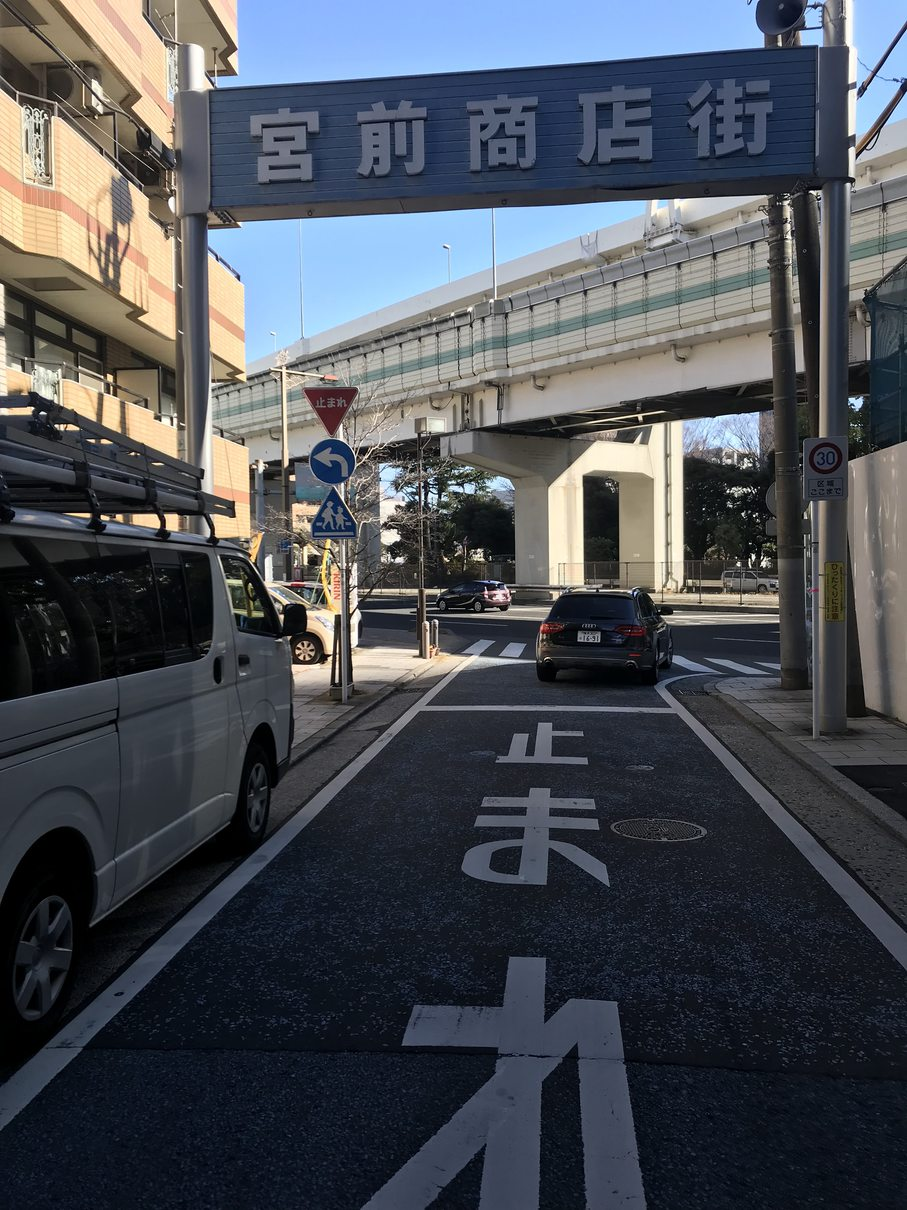stop_sign: (300, 382, 361, 438)
